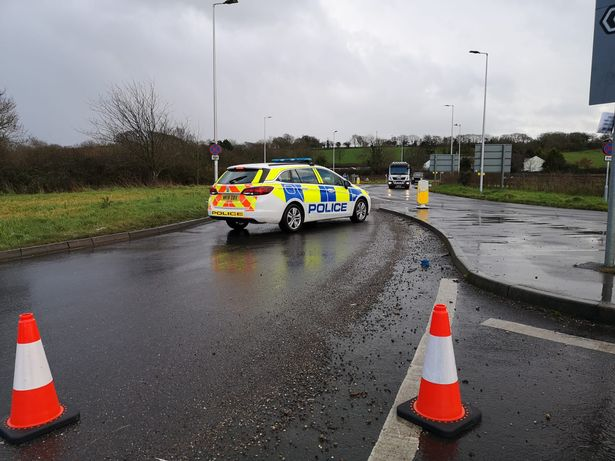cone: (393, 303, 485, 445), (1, 311, 83, 448)
